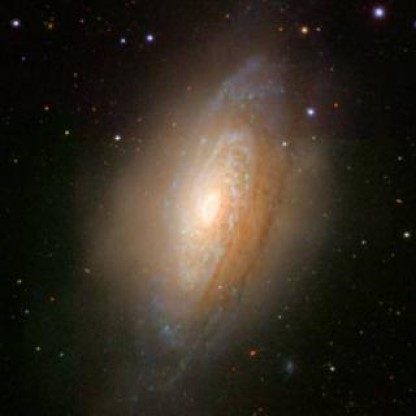NGC 3521: (59, 9, 348, 385)
